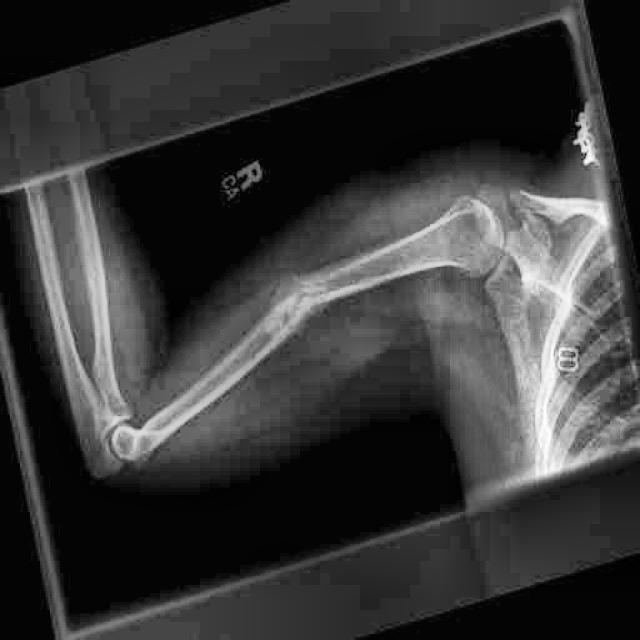humerus: (220, 226, 371, 409)
